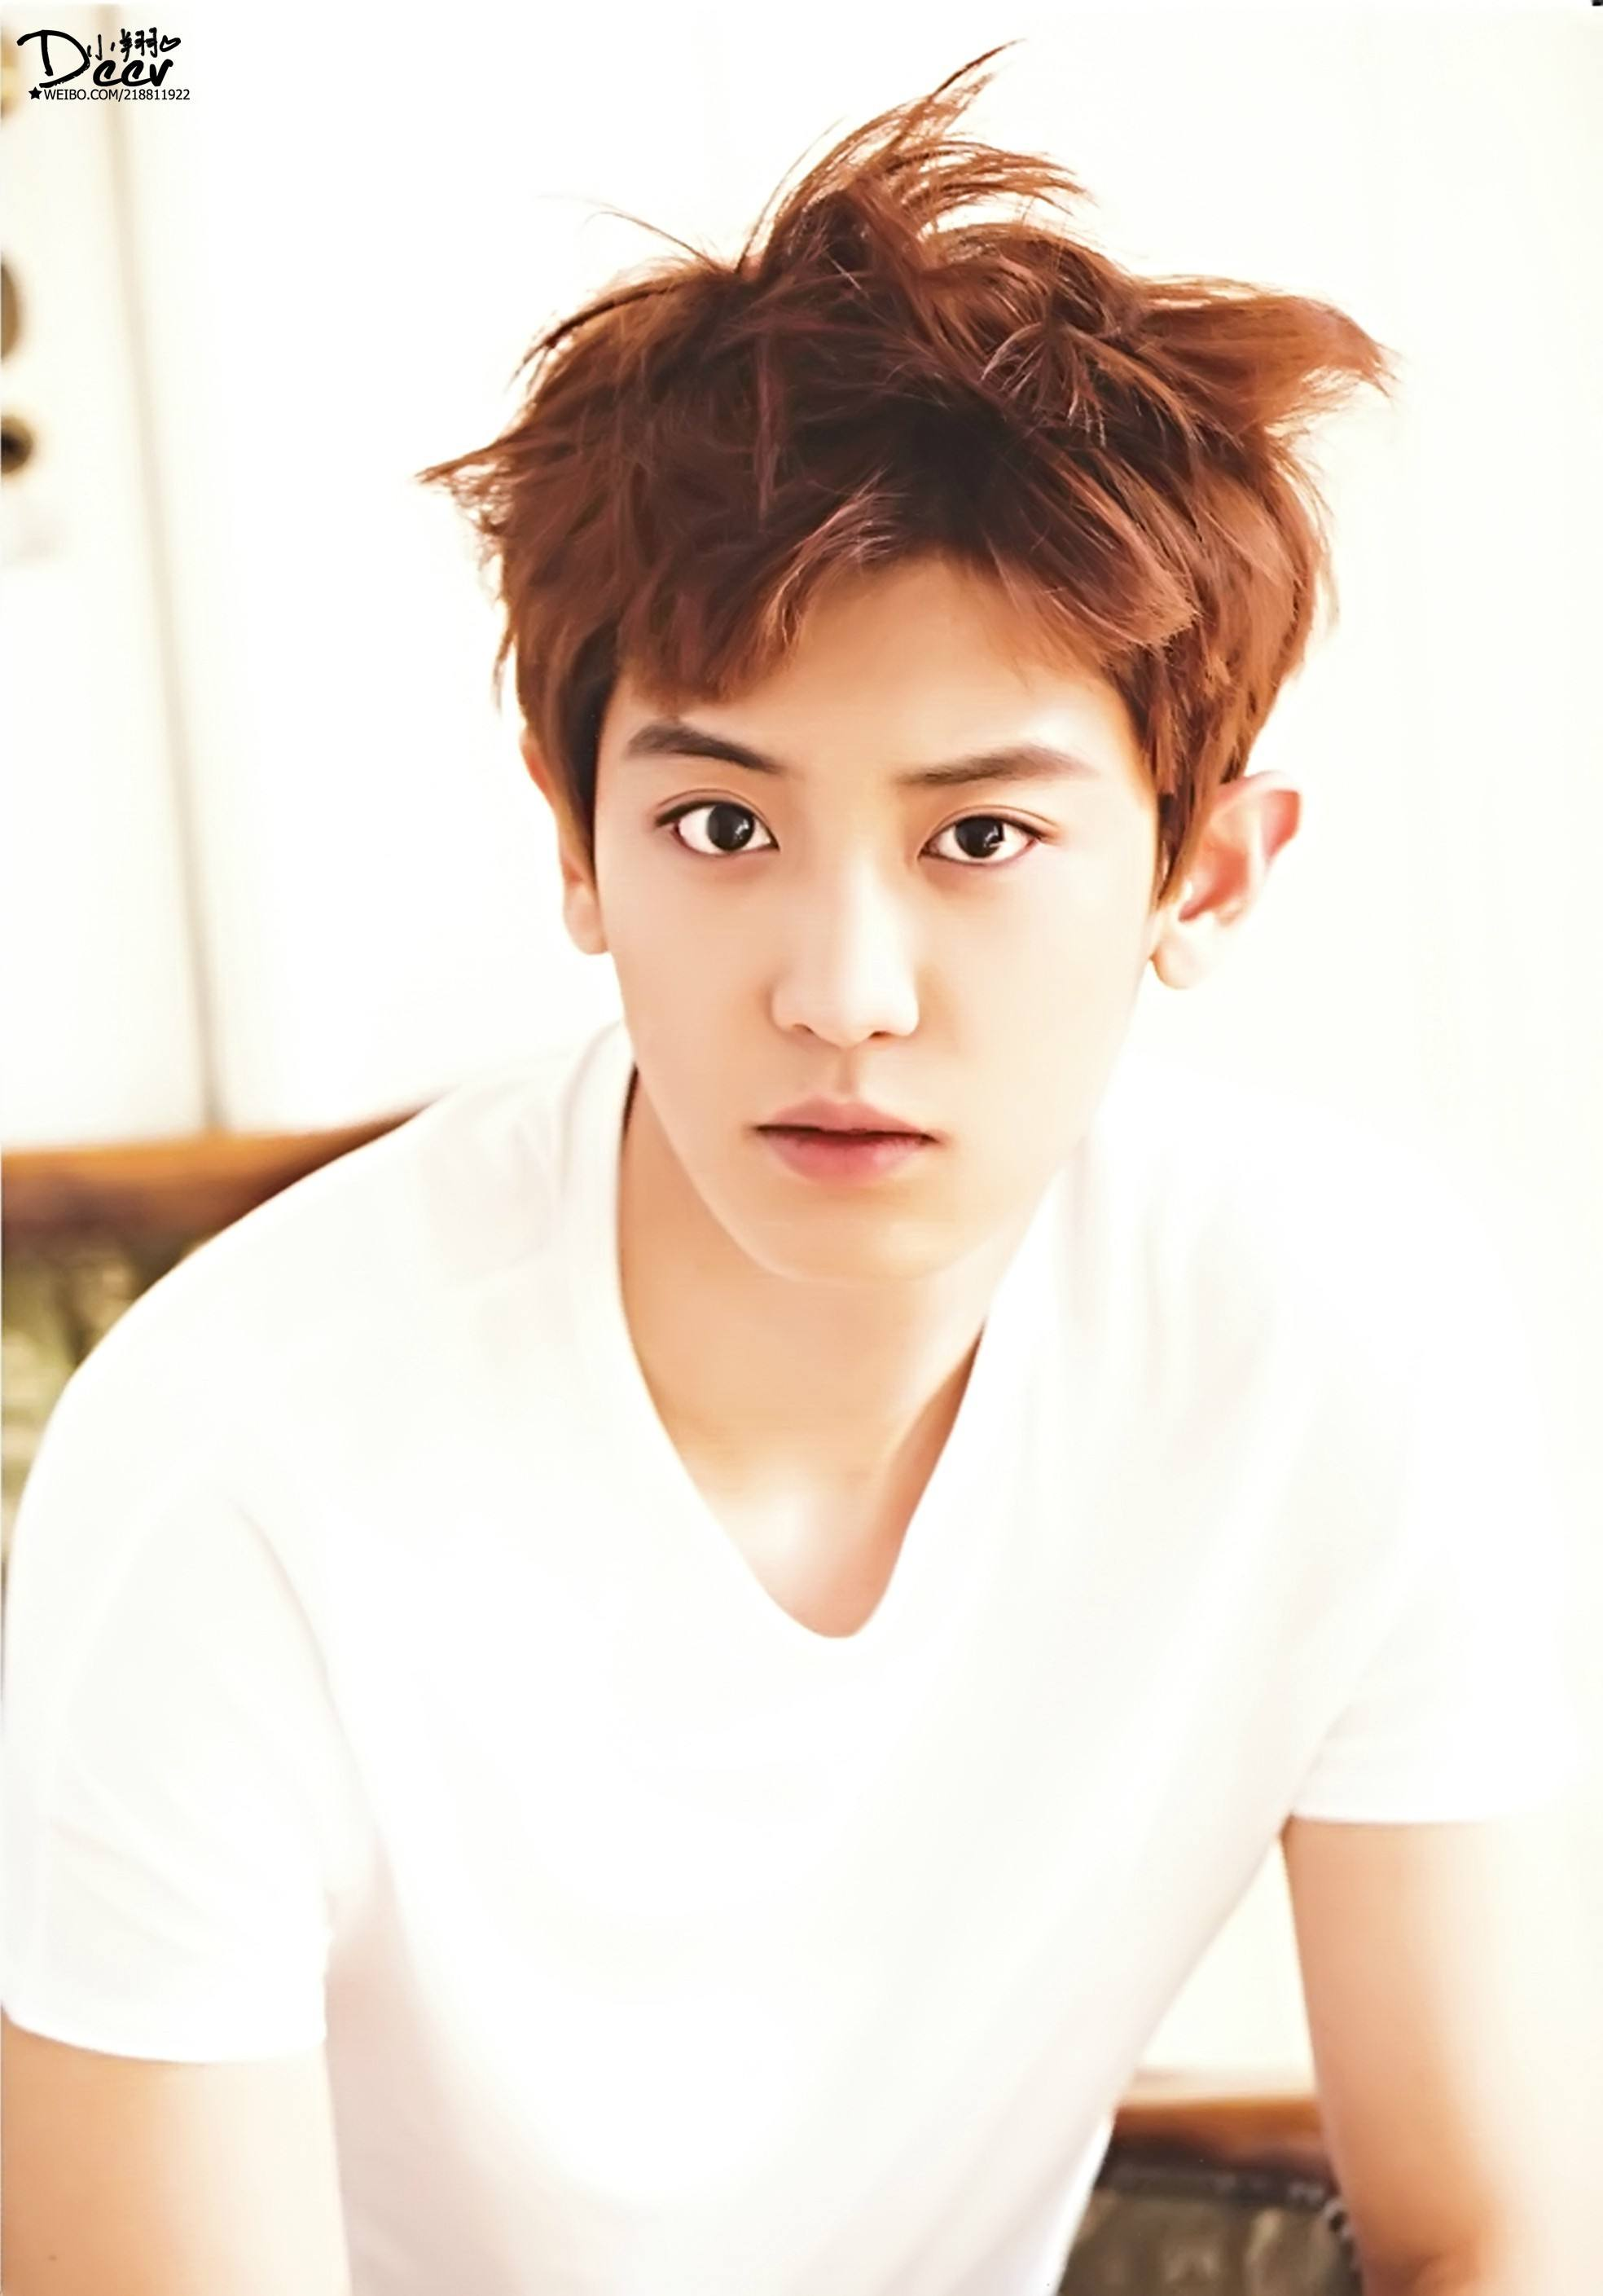person: (321, 256, 1511, 2179)
